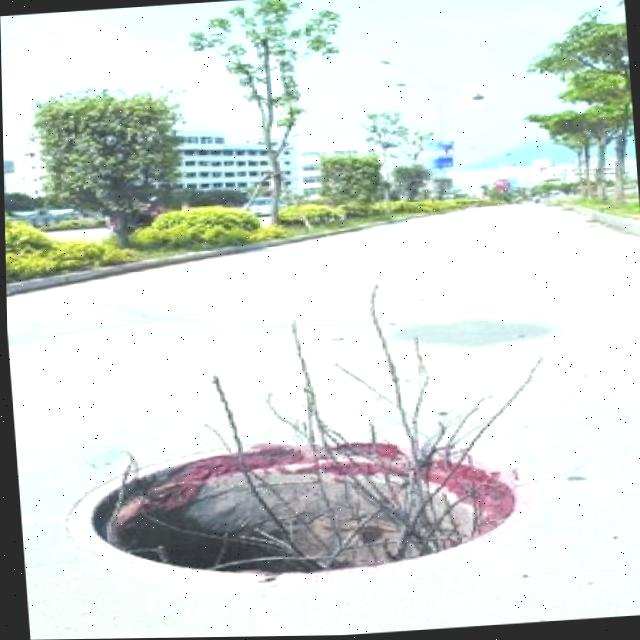manhole: (52, 414, 548, 593)
